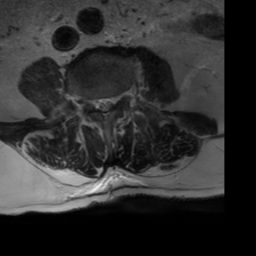CCS_normal: (100, 89, 107, 125)
LFS_normal: (115, 84, 123, 108)
LLS_normal: (107, 89, 115, 116)
RFS_stenosis: (85, 90, 93, 115)
RLS_normal: (93, 90, 100, 117)
